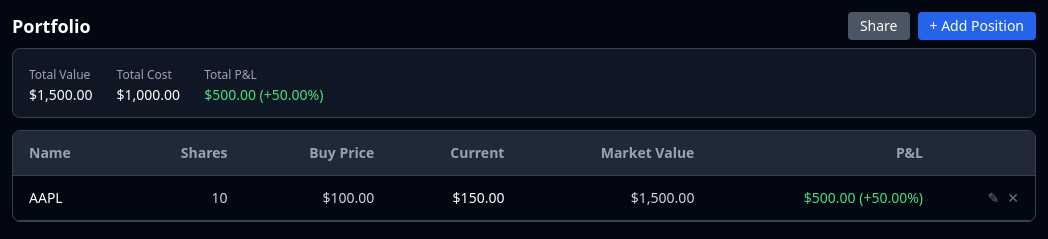
Scenario: PortfolioPanel › removes a holding when remove button clicked
The image size is (1048, 239).
Click the button named "remove aapl from portfolio". click: x=1013, y=198
box: x1=1007 y1=188 x2=1019 y2=208
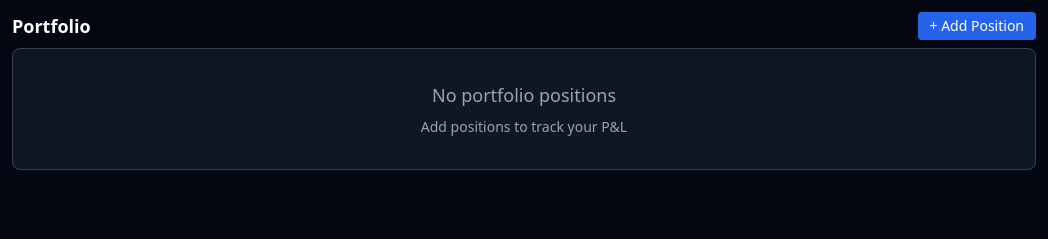
Expected: the text "No portfolio positions" is shown, x1=432 y1=83 x2=616 y2=107
